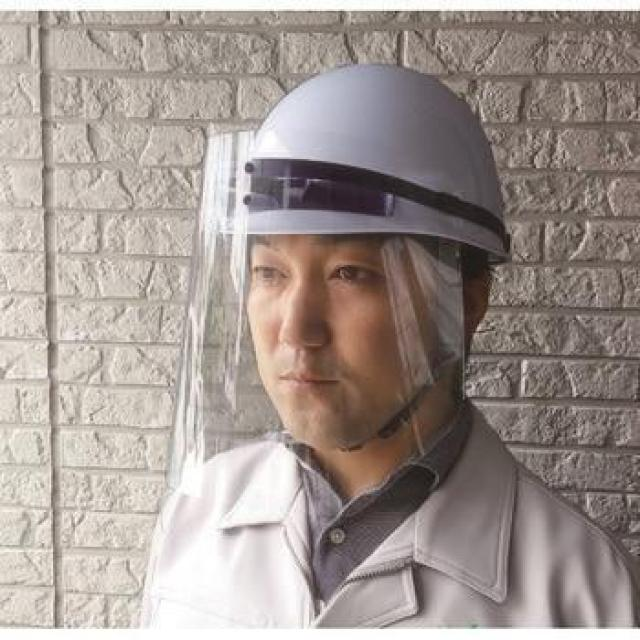helmet: (210, 62, 512, 263)
